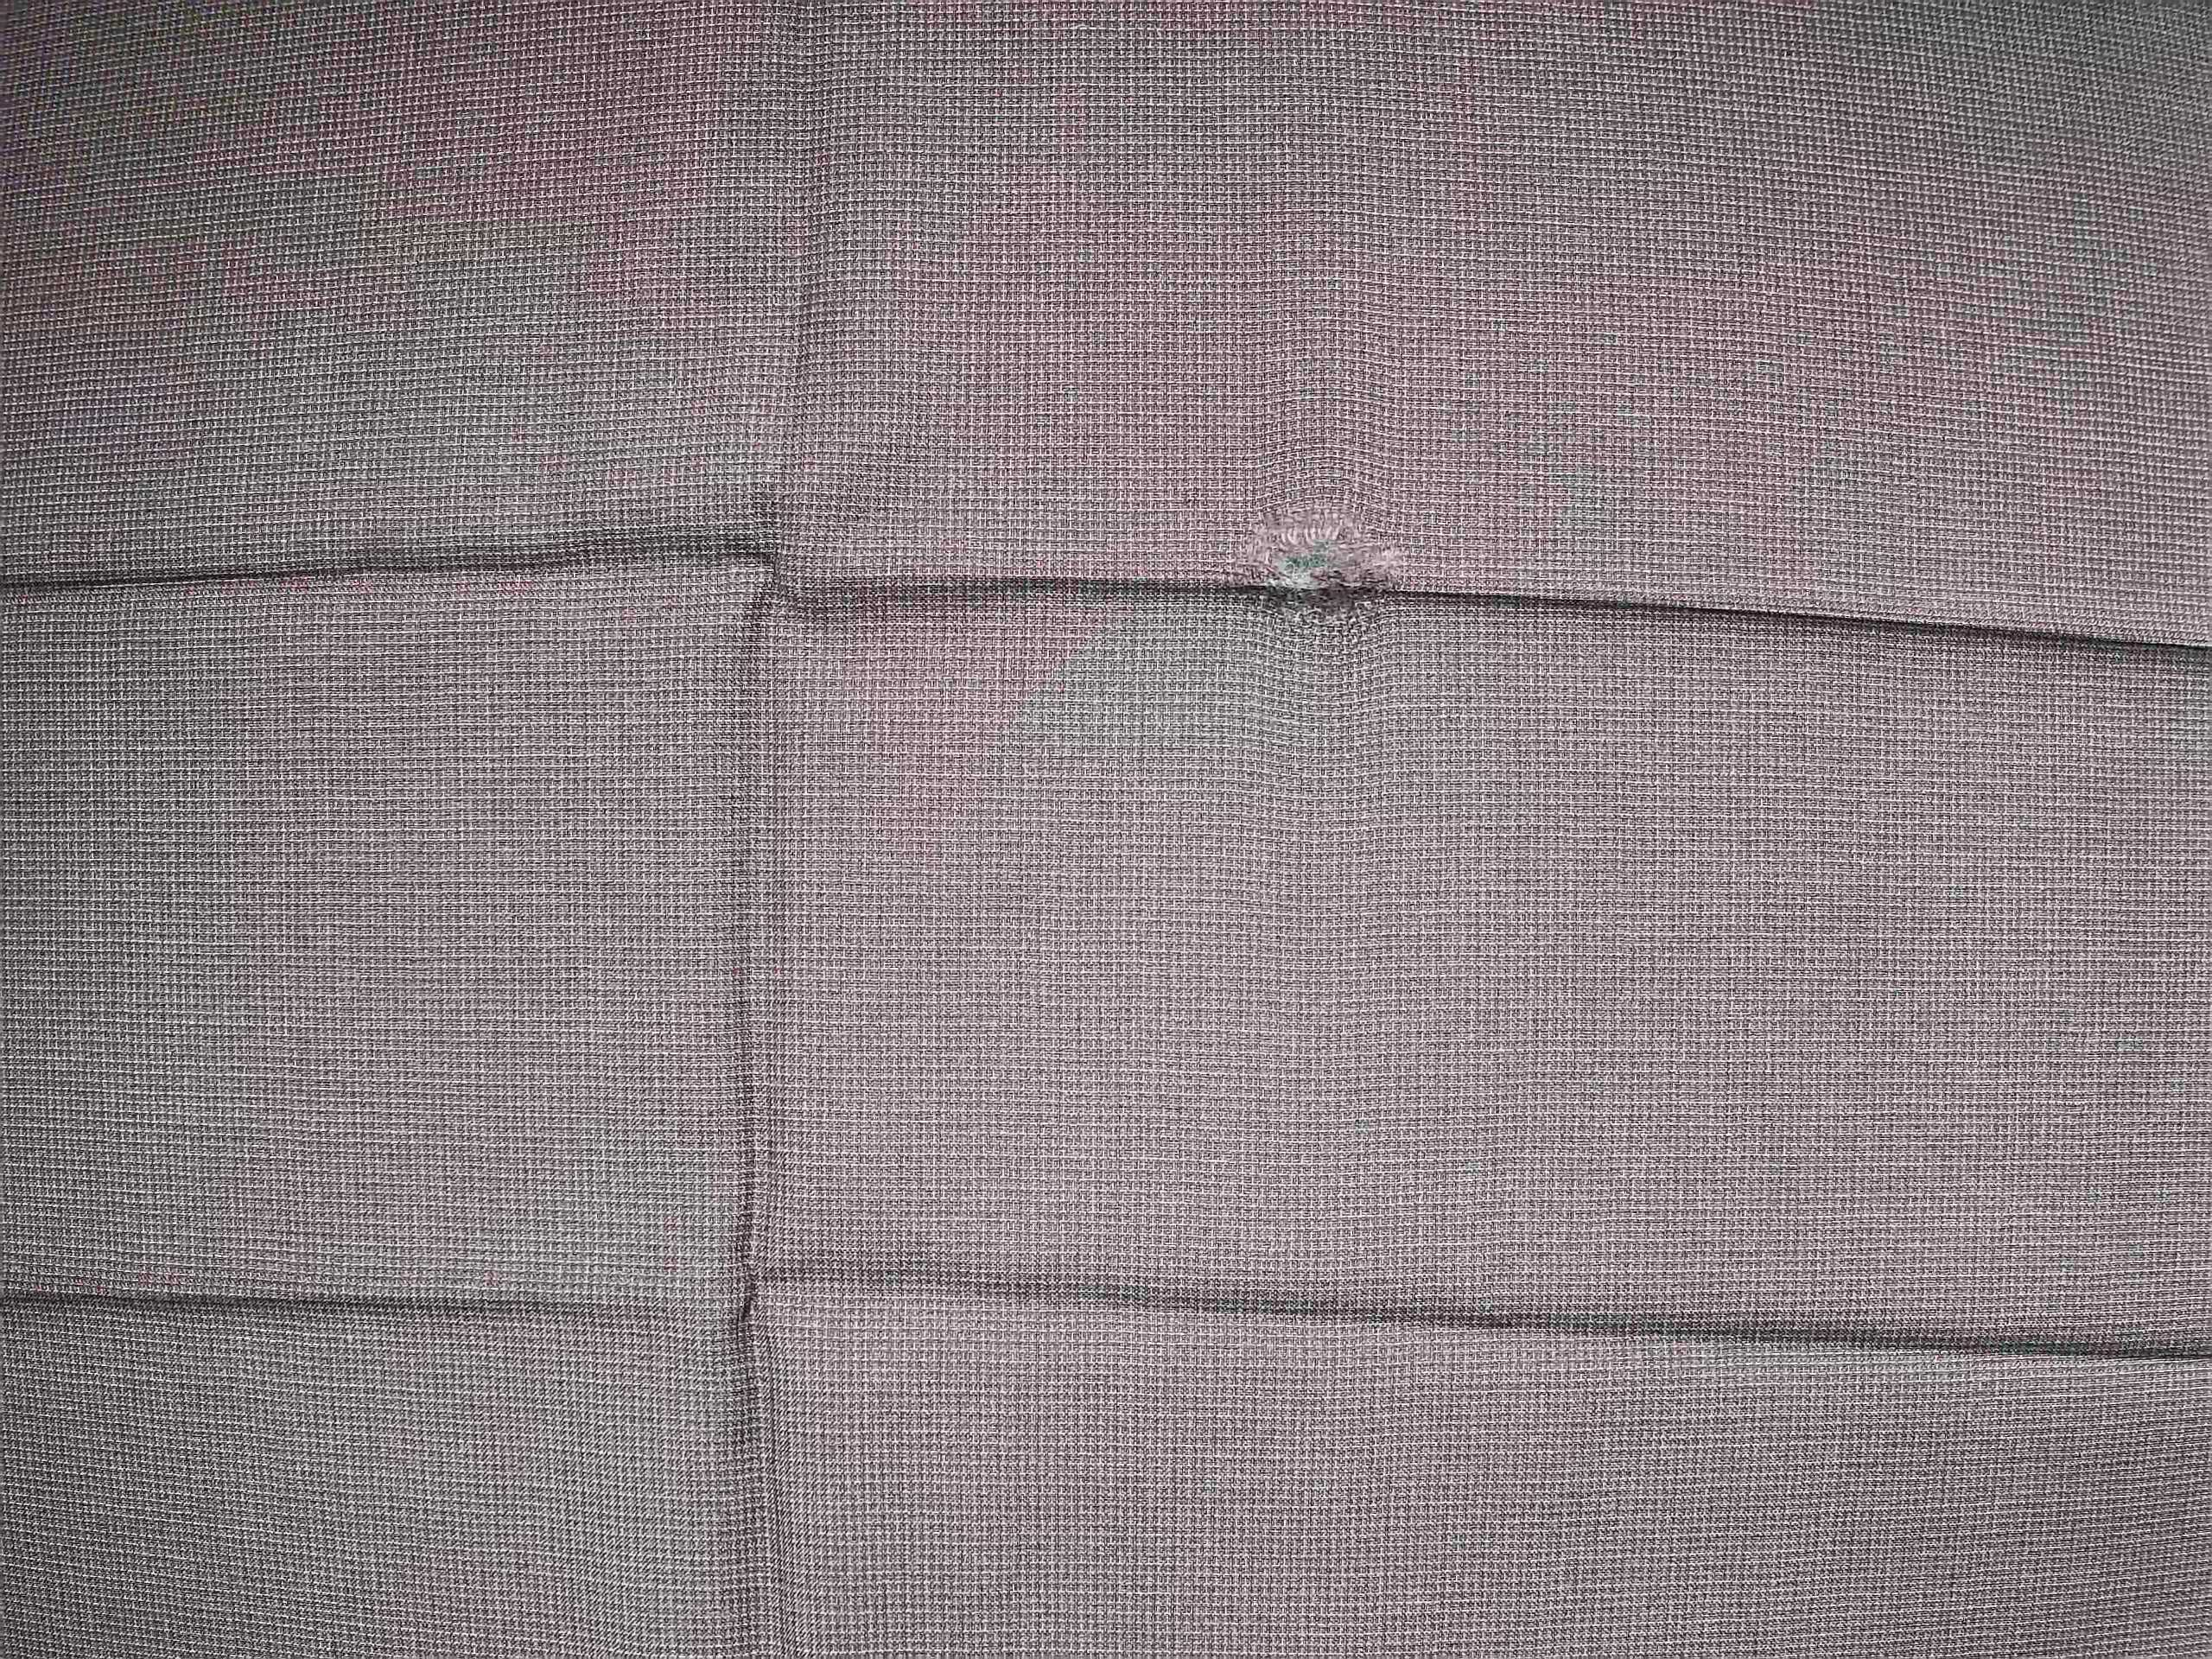brushed-hole: (1212, 472, 1437, 688)
